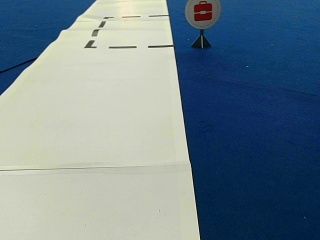company: (185, 0, 221, 28)
